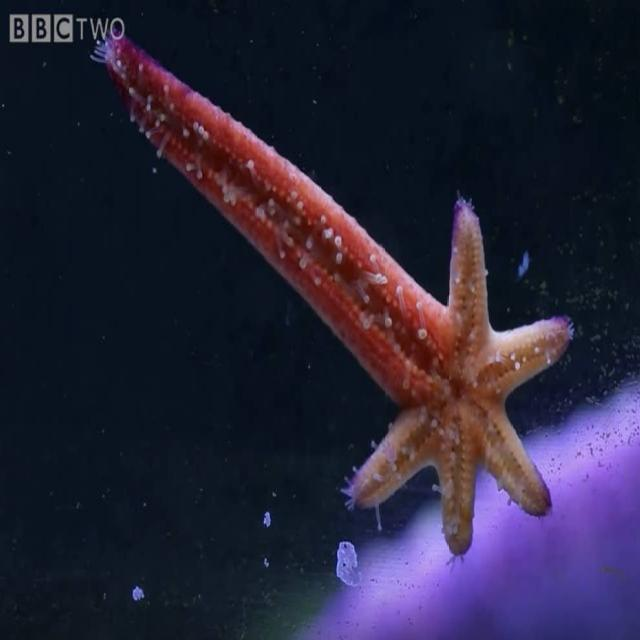starfish: (95, 30, 573, 555)
